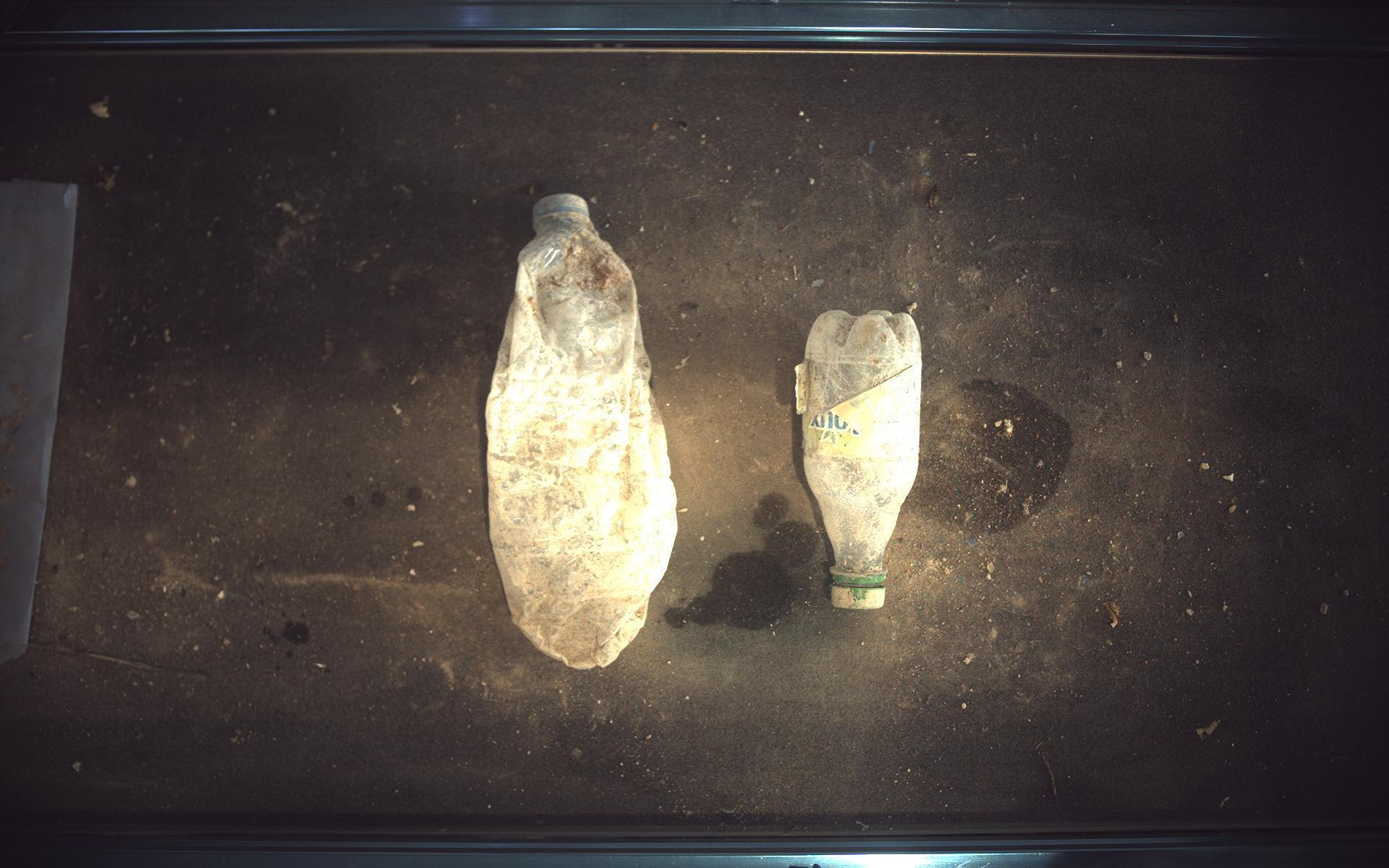general_w: (487, 193, 678, 670), (798, 310, 923, 610)
